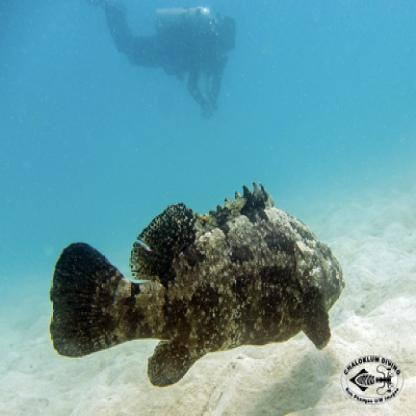Bio: (46, 178, 346, 388)
